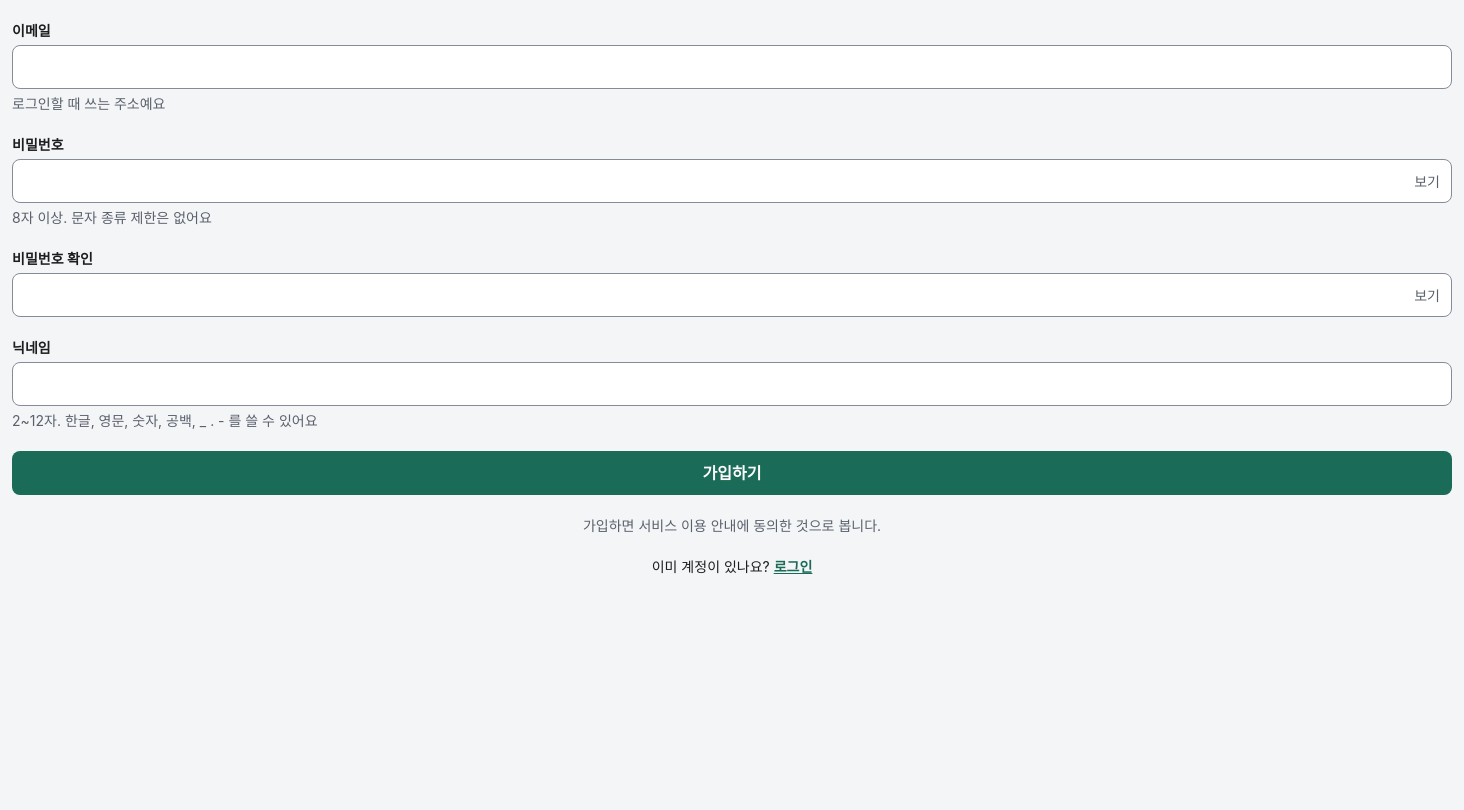
Scenario: 가입 폼 › [AC-SU-01, 22] 성공하면 환영 토스트를 띄우고 next로 replace한다
Type "kim@example.com" into the field labelled "이메일" at (732, 67), box top-left (12, 45), bottom-right (1452, 89)
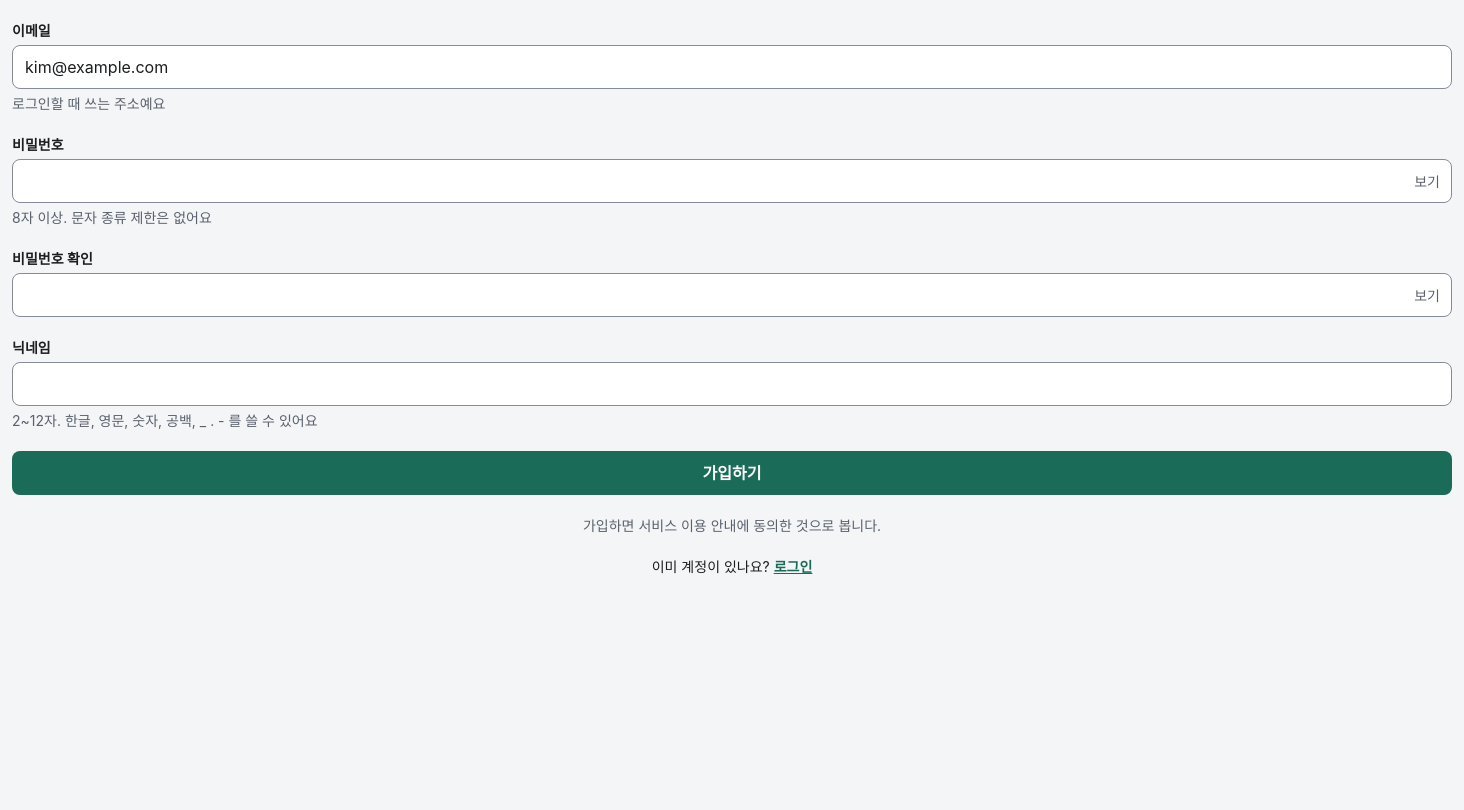
Type "correct horse" into the password field labelled "비밀번호" at (732, 181), box top-left (12, 159), bottom-right (1452, 203)
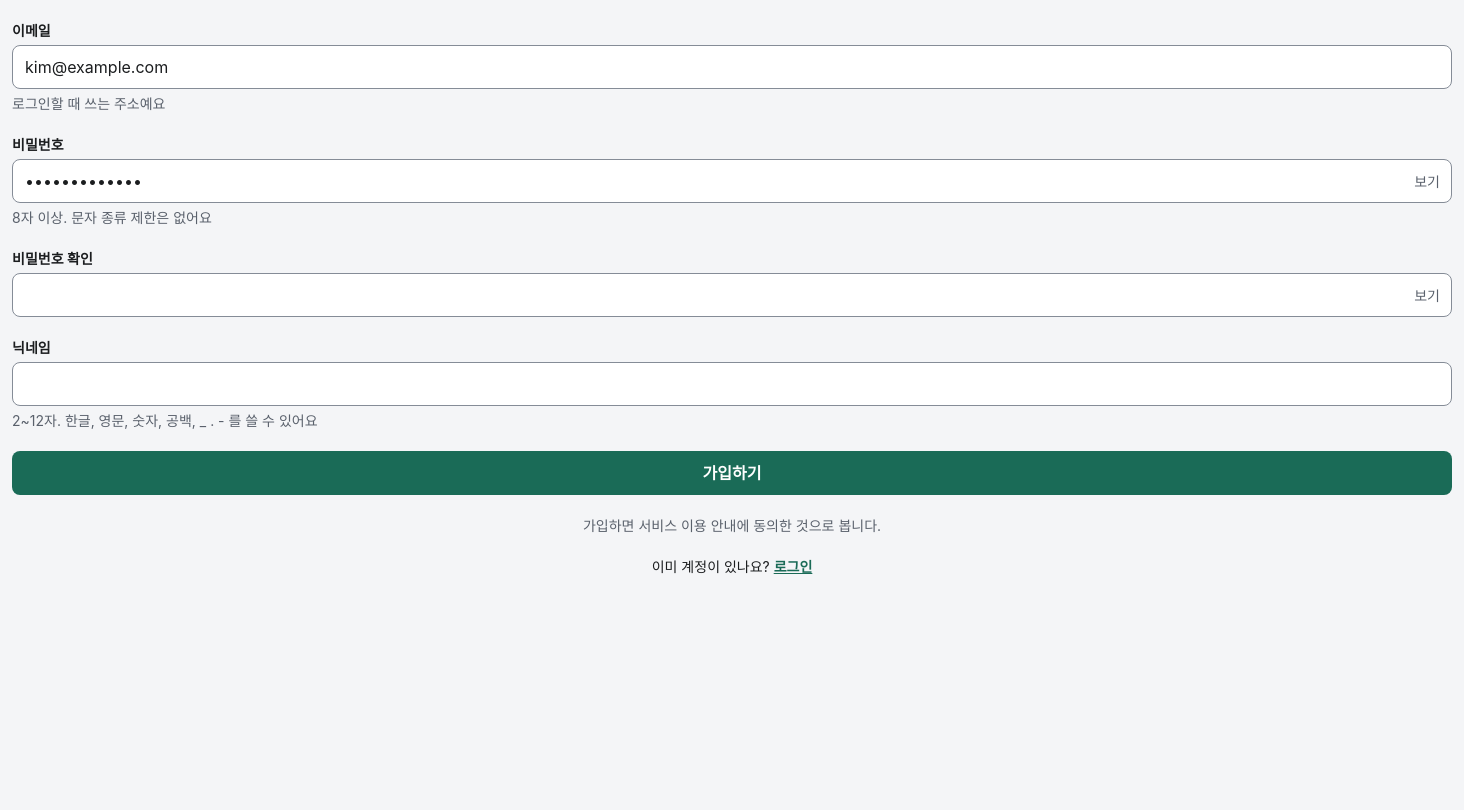
Type "correct horse" into the password field labelled "비밀번호 확인" at (732, 295), box top-left (12, 273), bottom-right (1452, 317)
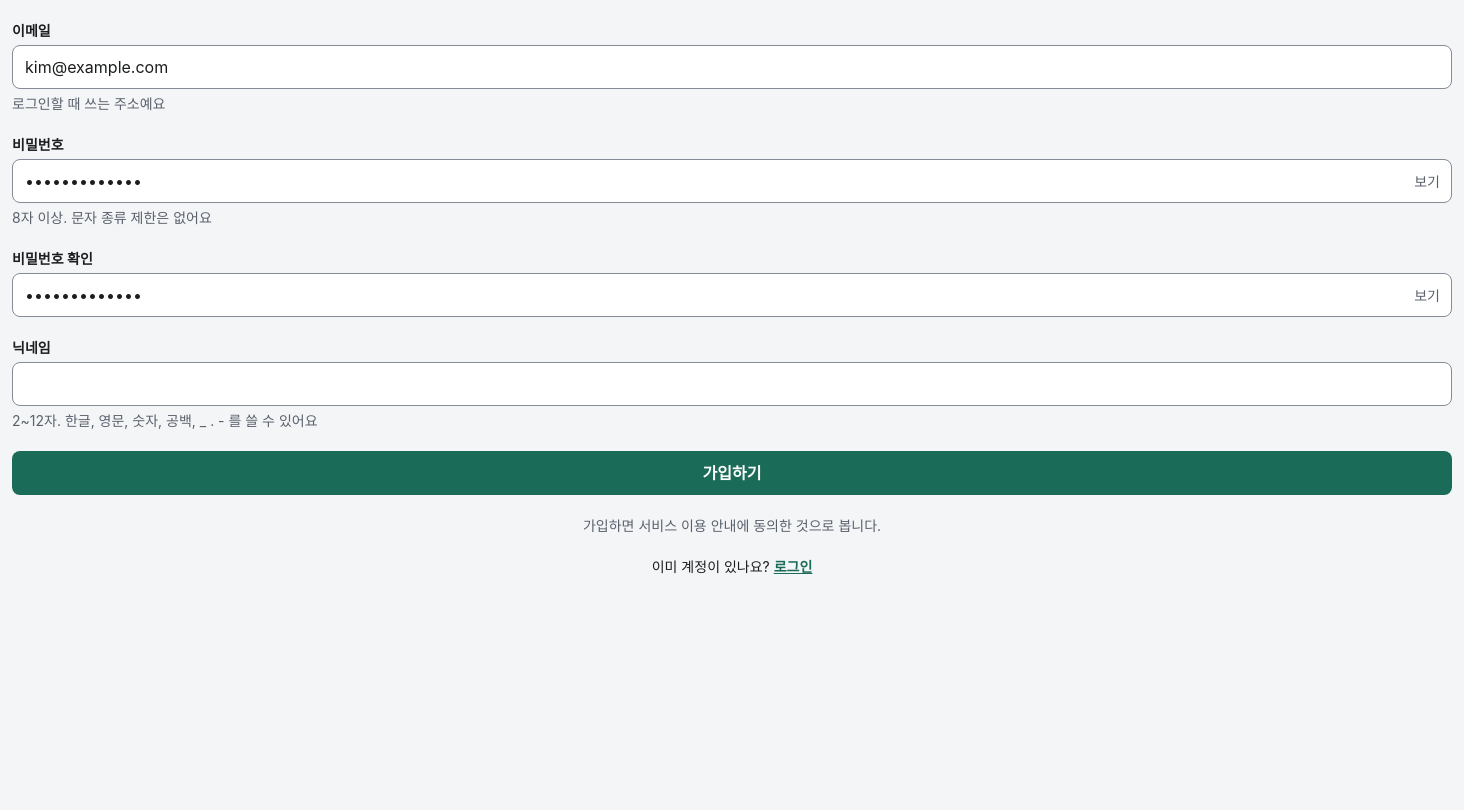
Type "김당근" into the field labelled "닉네임" at (732, 384), box top-left (12, 362), bottom-right (1452, 406)
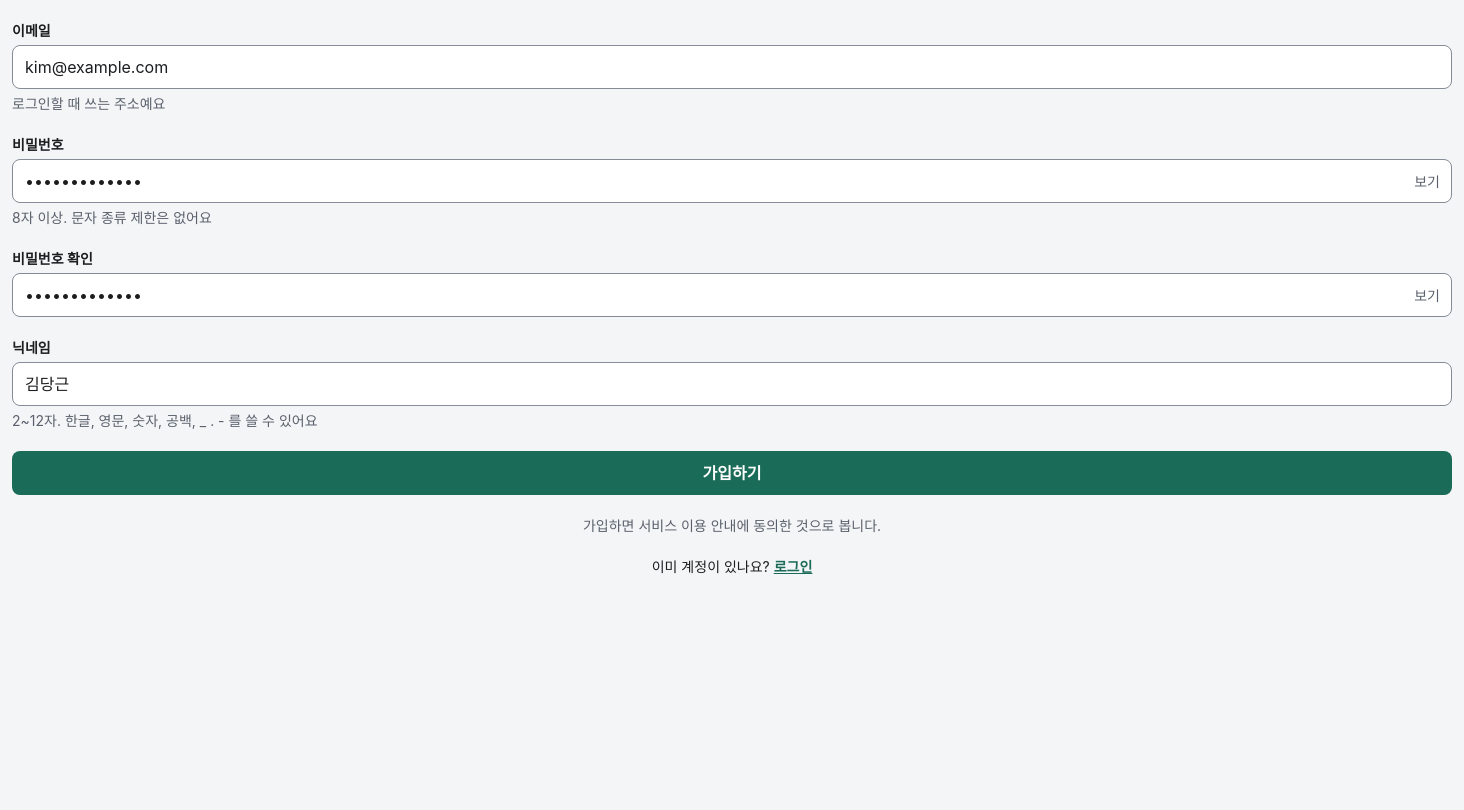
Click the button "가입하기" at (732, 473), box top-left (12, 451), bottom-right (1452, 495)
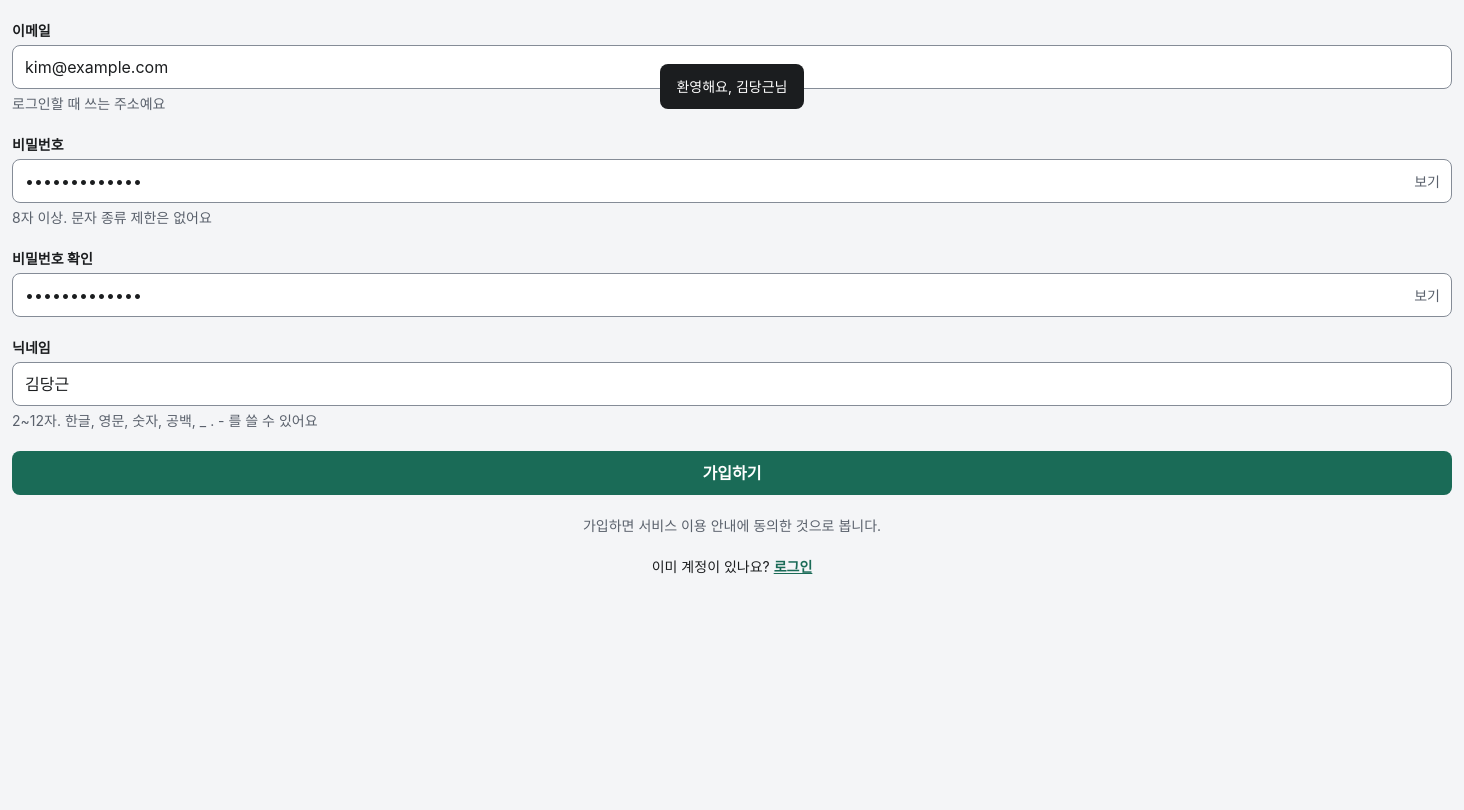
Now the message reads "환영해요, 김당근님", box top-left (676, 78), bottom-right (788, 95)
